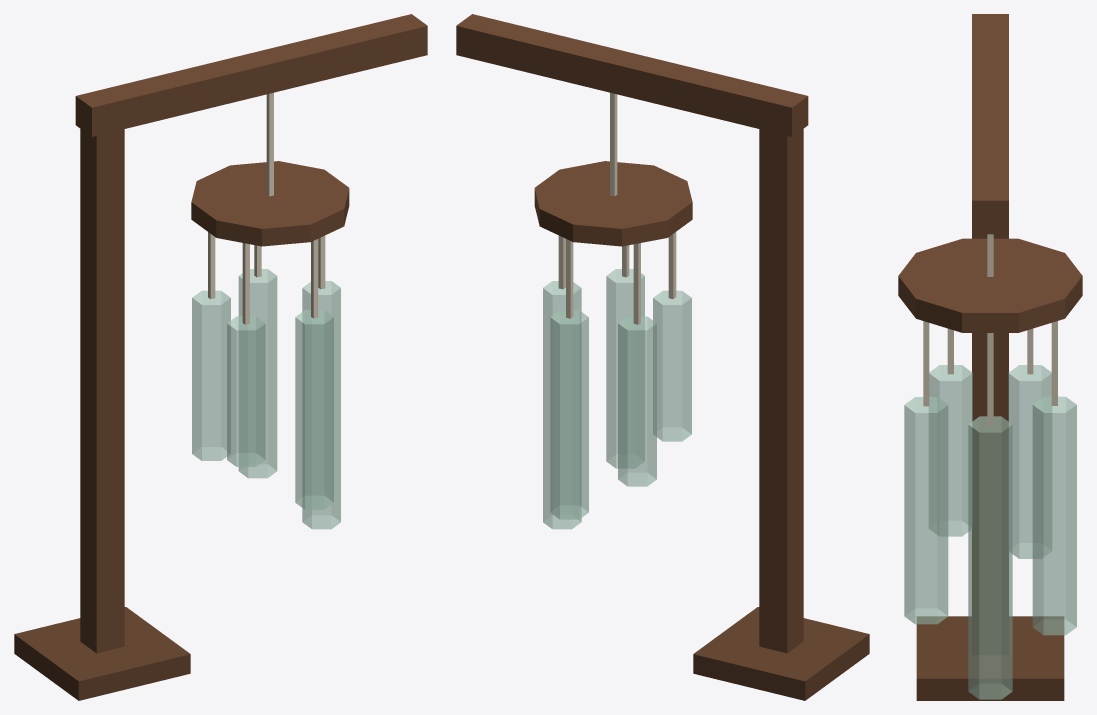
Rendered from Kit_Calm_Hint_Chimes.glb.
3 views of the same model, side by side, from view 1: azimuth 30°, elevation 25°; view 2: azimuth 150°, elevation 25°; view 3: azimuth 270°, elevation 25° (orthographic). The views are drawn at different scales.
Parts seen in each view (by area): view 1: EX_HintChimes_Wood, EX_HintChimes_Glass, EX_HintChimes_Fabric; view 2: EX_HintChimes_Wood, EX_HintChimes_Glass, EX_HintChimes_Fabric; view 3: EX_HintChimes_Wood, EX_HintChimes_Glass, EX_HintChimes_Fabric.
Part boxes in pixels (bbox=[...]): EX_HintChimes_Wood: bbox=[14, 14, 427, 700]; EX_HintChimes_Glass: bbox=[192, 269, 340, 529]; EX_HintChimes_Fabric: bbox=[208, 92, 325, 324]; EX_HintChimes_Wood: bbox=[456, 14, 869, 700]; EX_HintChimes_Glass: bbox=[543, 269, 691, 529]; EX_HintChimes_Fabric: bbox=[558, 92, 676, 324]; EX_HintChimes_Wood: bbox=[898, 14, 1082, 700]; EX_HintChimes_Glass: bbox=[904, 365, 1076, 699]; EX_HintChimes_Fabric: bbox=[923, 234, 1057, 425].
Size of the model in its own units: 0.6 by 0.87 by 0.225.
